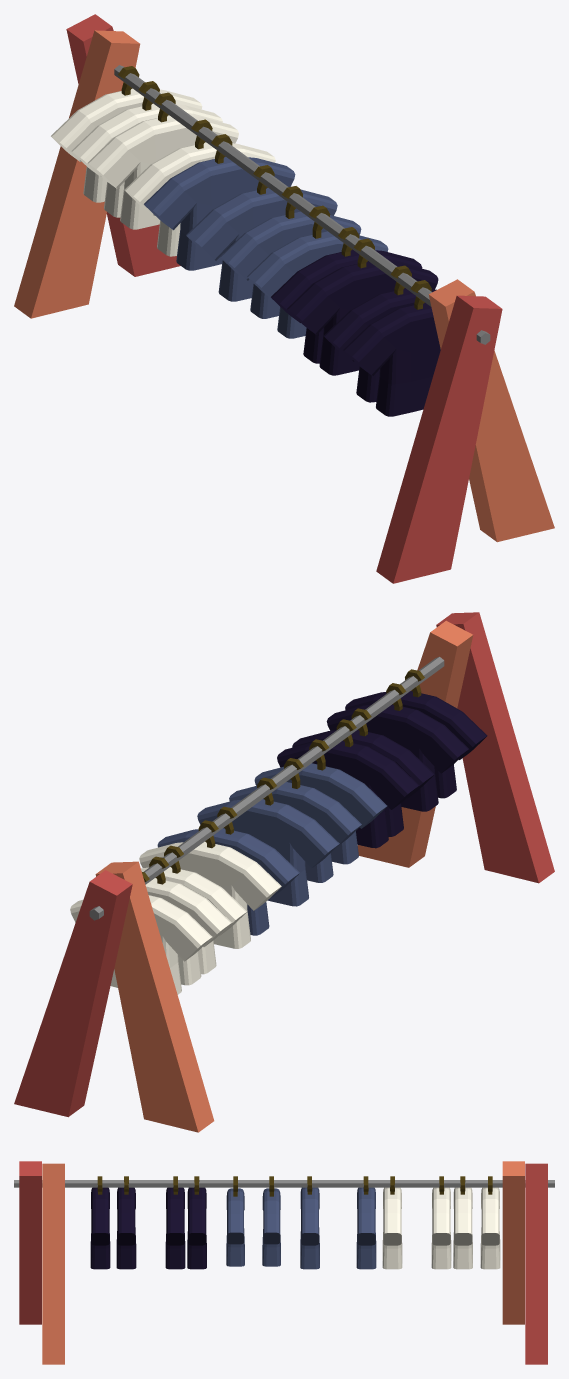
Rendered from short-shirt.glb.
3 views of the same model, one above another, from view 1: azimuth 30°, elevation 25°; view 2: azimuth 150°, elevation 25°; view 3: azimuth 270°, elevation 25° (orthographic). The views are drawn at different scales.
Parts seen in each view (by area): view 1: Cylinder.001; view 2: Cylinder.001; view 3: Cylinder.001.
Part boxes in pixels (x1,y1,x2,y2): Cylinder.001: (14,14,554,583); Cylinder.001: (14,612,554,1132); Cylinder.001: (14,1161,554,1364).
Bounding box in the file's own units: 5.75 × 7.89 × 22.57.
